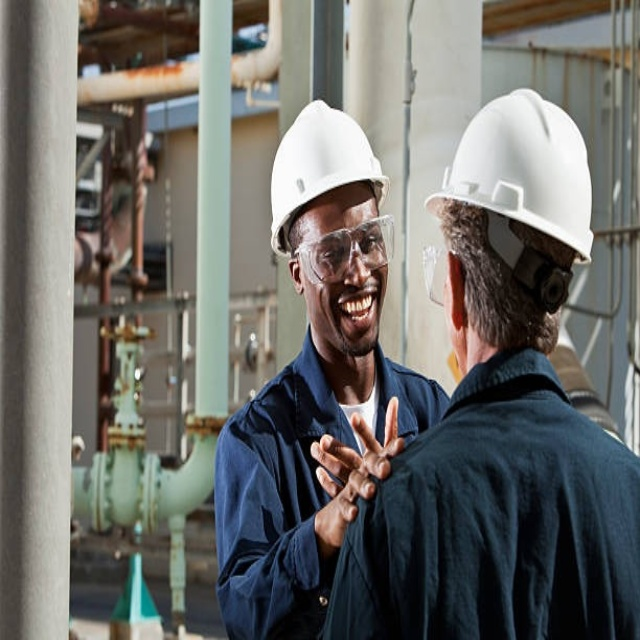Gafas: (294, 215, 397, 295), (421, 232, 457, 312)
Sin_guantes: (310, 396, 406, 534)
Sin_mascara: (333, 287, 383, 344)
